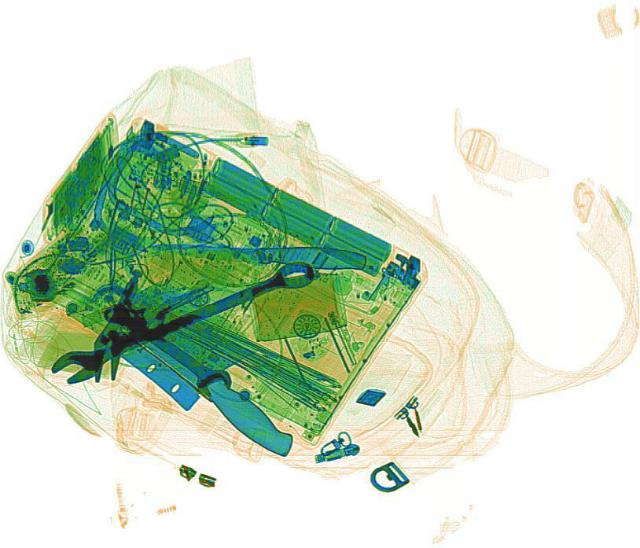Knife: (100, 264, 340, 461), (148, 232, 364, 271)
Wrench: (42, 252, 322, 386)
